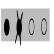correct: (4, 16, 10, 38)
not correct: (15, 9, 24, 47)
